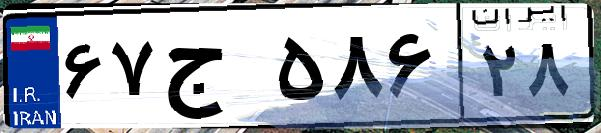2: (475, 38, 525, 113)
5: (270, 28, 330, 110)
6: (385, 28, 445, 110), (57, 26, 110, 100)
7: (110, 28, 158, 98)
8: (330, 28, 385, 110), (525, 38, 570, 115)
ج: (158, 20, 270, 120)
